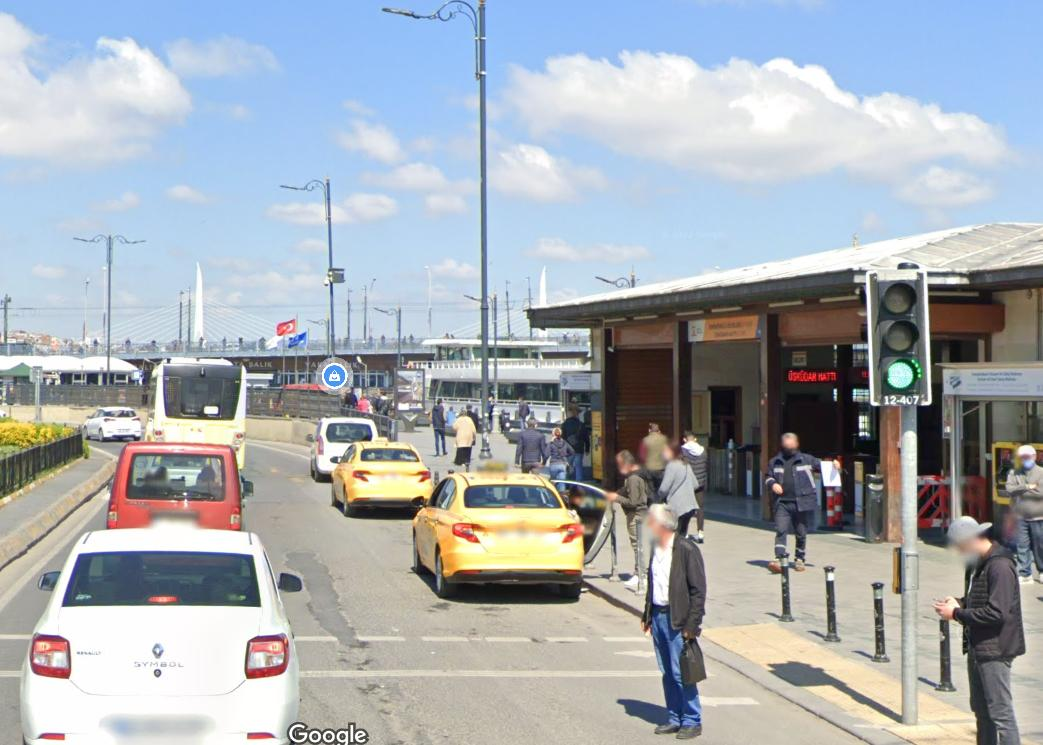greenlight: (871, 272, 933, 406)
